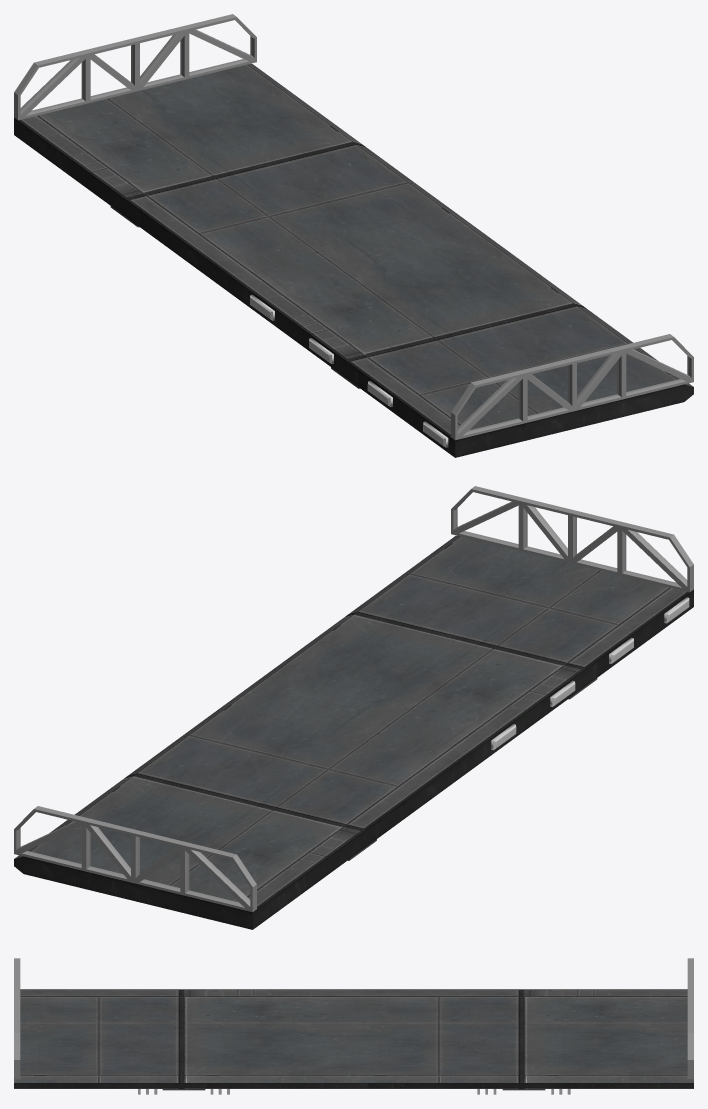
The model's file is Neon_Lrg_Bridge_02.FBX.
3 views of the same model, one above another, from view 1: azimuth 30°, elevation 25°; view 2: azimuth 150°, elevation 25°; view 3: azimuth 270°, elevation 25° (orthographic). The views are drawn at different scales.
Parts seen in each view (by area): view 1: Neon_Lrg_Bridge_02; view 2: Neon_Lrg_Bridge_02; view 3: Neon_Lrg_Bridge_02.
Boxes of the visible parts, box(x1,y1,x2,y2) form: Neon_Lrg_Bridge_02: box(14, 14, 693, 457); Neon_Lrg_Bridge_02: box(14, 486, 693, 929); Neon_Lrg_Bridge_02: box(14, 958, 693, 1094).
Bounding box in the file's own units: 5.08 × 1.52 × 16.
